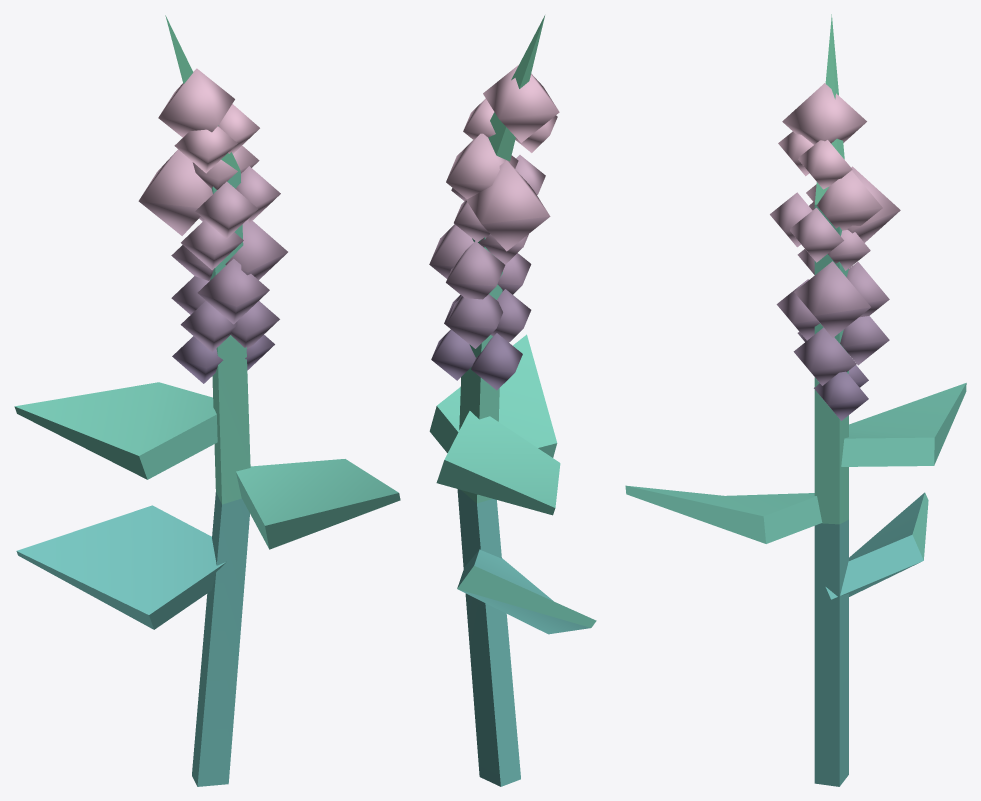
The model's file is snowdrop_purple.glb.
3 renders of one model, left to right at view 1: azimuth 30°, elevation 25°; view 2: azimuth 150°, elevation 25°; view 3: azimuth 270°, elevation 25°, orthographic. The views are drawn at different scales.
Visible parts, largest first — view 1: SnowDrop_Purple.001; view 2: SnowDrop_Purple.001; view 3: SnowDrop_Purple.001.
Part boxes in pixels (box(x1,y1,x2,y2)): SnowDrop_Purple.001: box(14, 15, 400, 786); SnowDrop_Purple.001: box(429, 15, 596, 786); SnowDrop_Purple.001: box(625, 14, 966, 786).
Size of the model in its own units: 0.1816 by 0.5384 by 0.2237.
